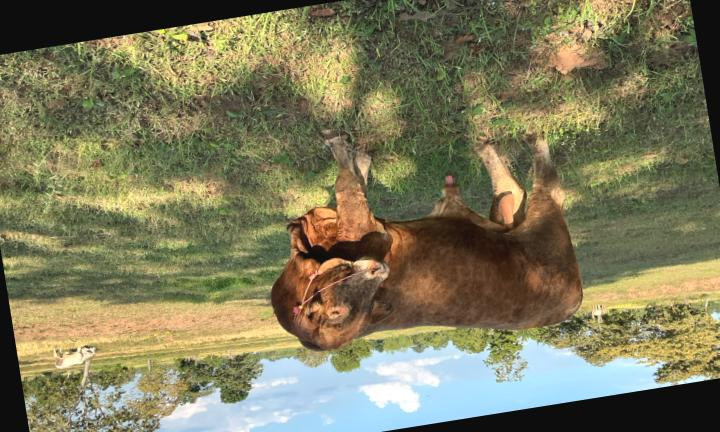Charolais: (271, 131, 582, 350)
